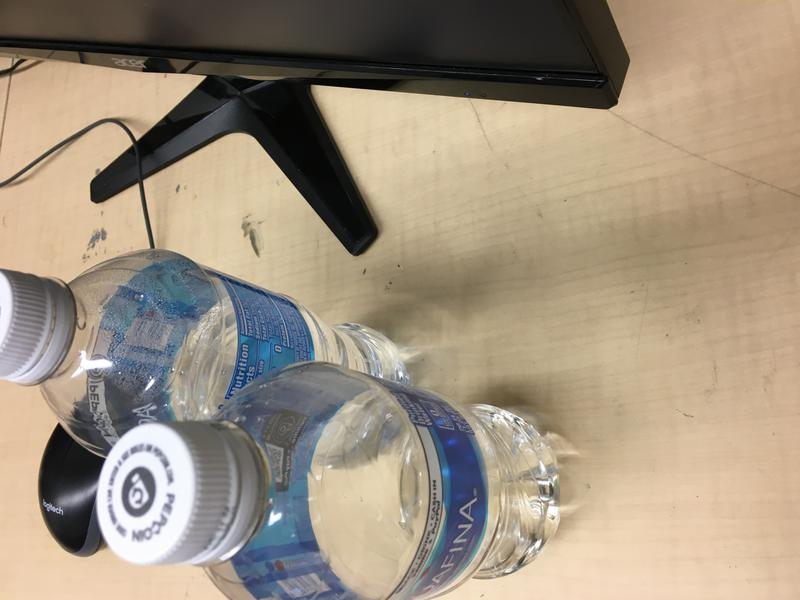bottle: (94, 359, 563, 600), (1, 248, 410, 465)
